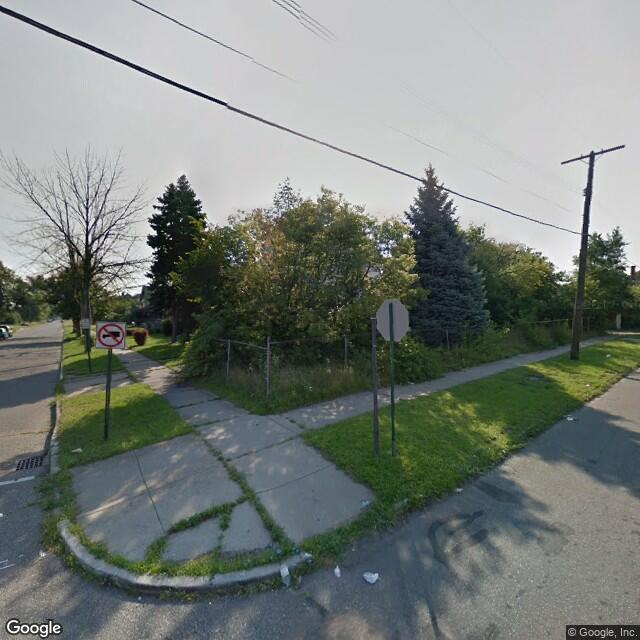litter: (280, 565, 294, 585), (365, 571, 381, 584), (332, 566, 343, 575), (71, 449, 85, 455), (566, 415, 577, 422), (453, 489, 466, 494), (584, 383, 592, 387), (39, 550, 45, 554), (137, 594, 141, 599), (501, 447, 506, 450), (607, 355, 613, 357)
